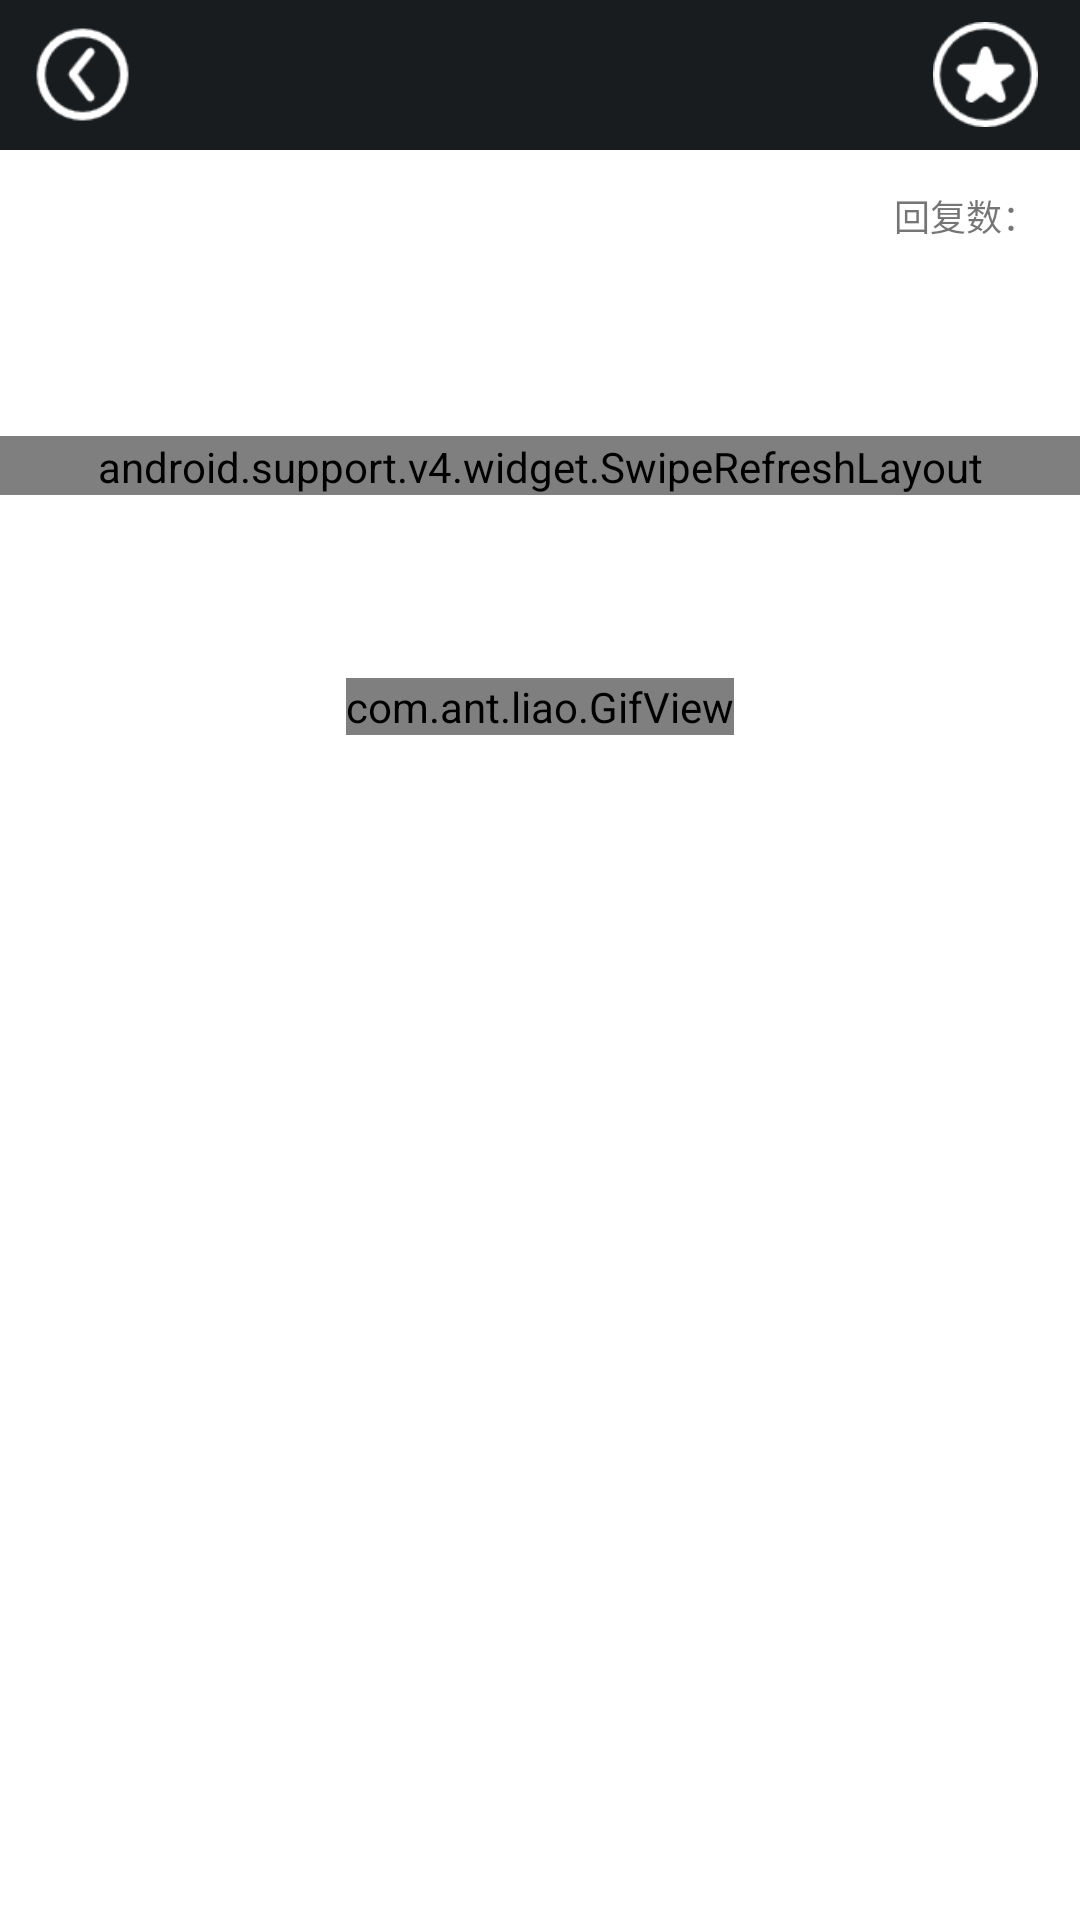

Named icons in this screenshot (1080w x 1920h) and their bounding boxes, (x1, y1, x2, y2):
back: (36, 28, 129, 121)
collection: (933, 22, 1038, 127)
